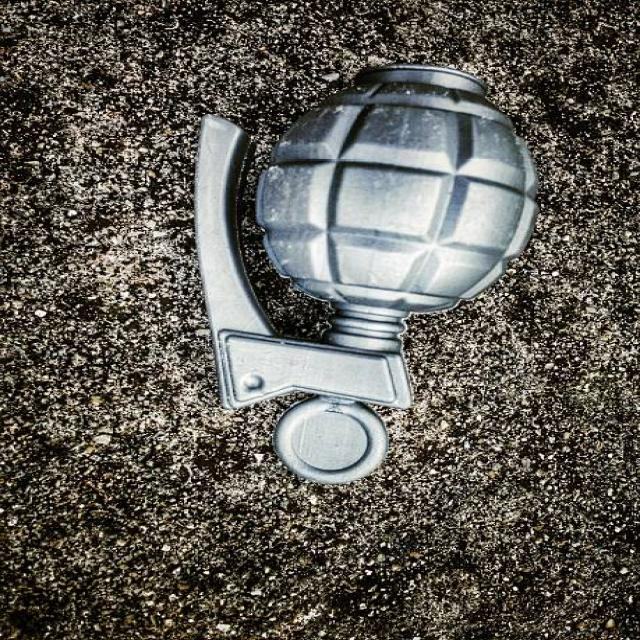grenade: (186, 56, 539, 484)
